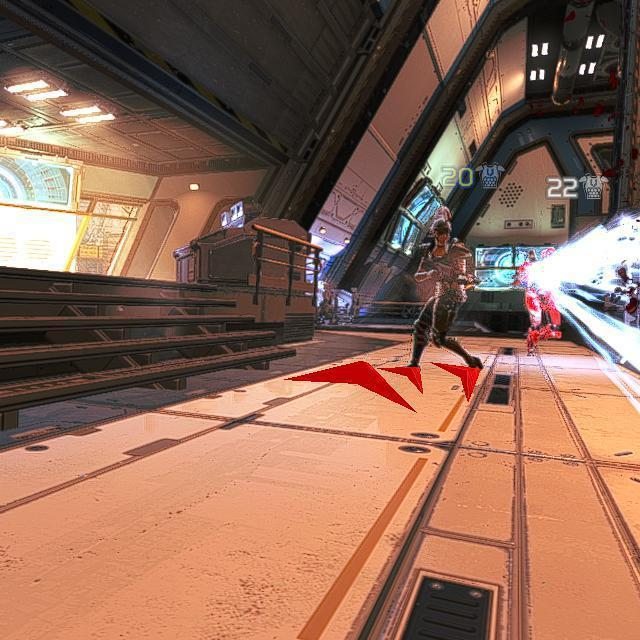avatar: (404, 218, 483, 373), (512, 246, 563, 356)
